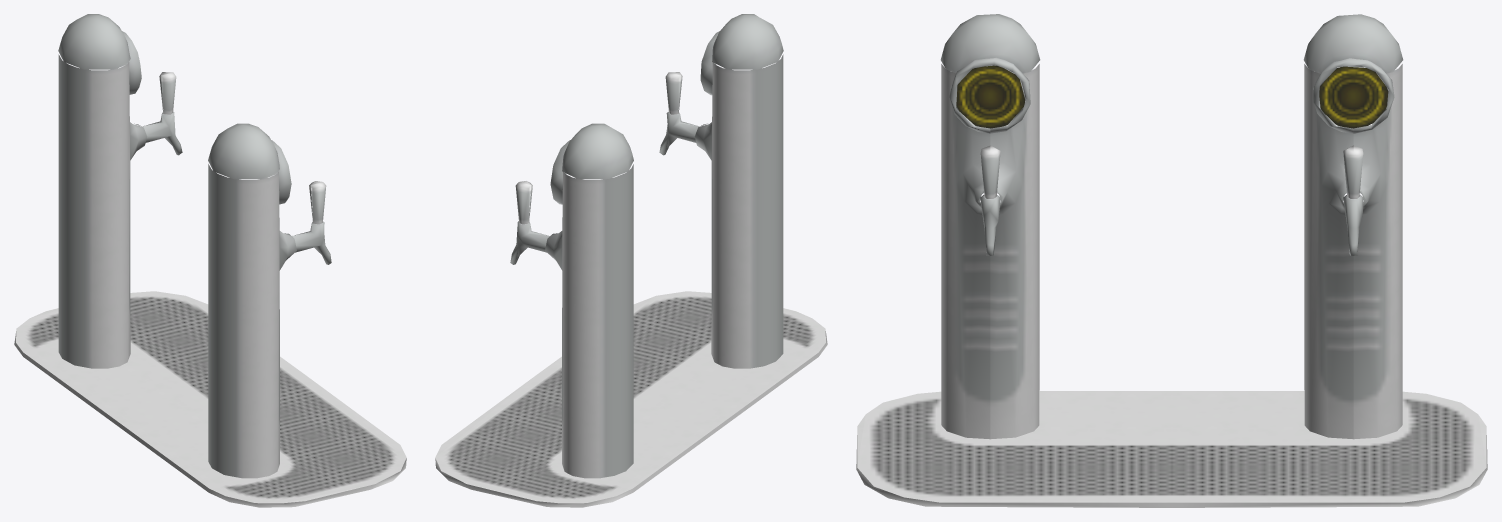
The model's file is bar_dispenser_2_a.glb.
3 renders of one model, left to right at view 1: azimuth 30°, elevation 25°; view 2: azimuth 150°, elevation 25°; view 3: azimuth 270°, elevation 25°, orthographic. The views are drawn at different scales.
Visible parts, largest first — view 1: bar_dispenser_2; view 2: bar_dispenser_2; view 3: bar_dispenser_2.
Part boxes in pixels (x1,y1,x2,y2): bar_dispenser_2: (14, 14, 406, 507); bar_dispenser_2: (435, 14, 827, 507); bar_dispenser_2: (856, 14, 1487, 507).
Size of the model in its own units: 0.3055 by 0.5233 by 0.7275.
Materials: 1 (1 with a texture image).
